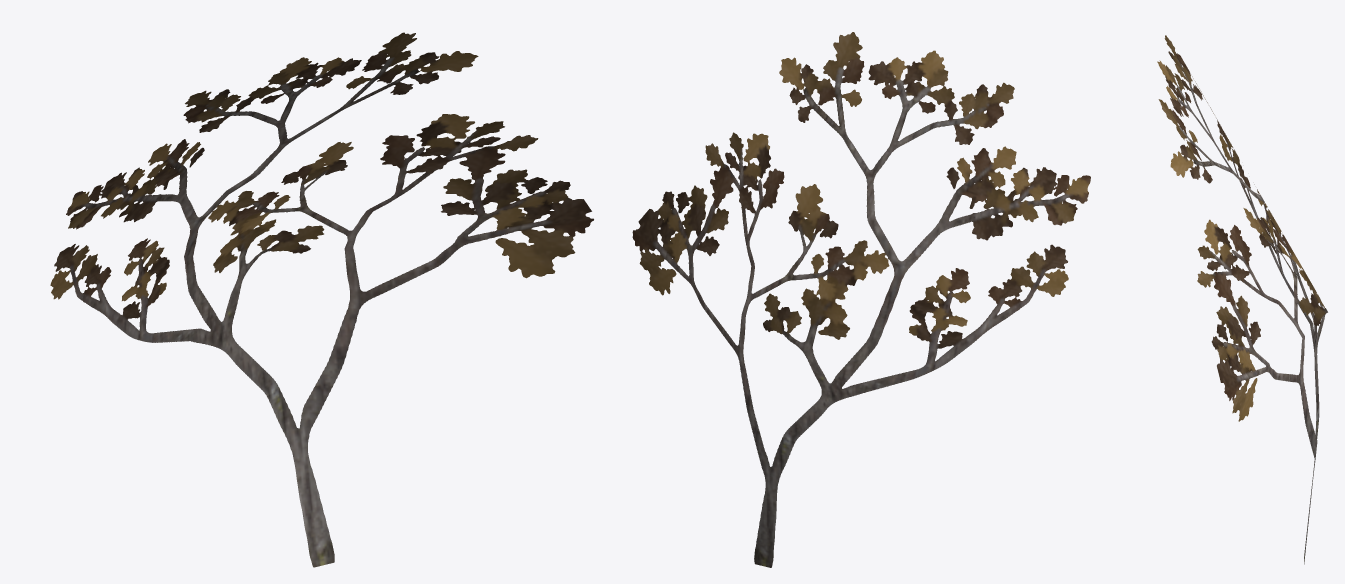
The model's file is rama_arbol_1.fbx.
The picture shows the model from 3 angles, left to right: view 1: azimuth 30°, elevation 25°; view 2: azimuth 150°, elevation 25°; view 3: azimuth 270°, elevation 25°; orthographic projection. The views are drawn at different scales.
Parts seen in each view (by area): view 1: rama_arbol_1; view 2: rama_arbol_1; view 3: rama_arbol_1.
Boxes of the visible parts, left/top/right/bottom form: rama_arbol_1: left=50, top=32, right=593, bottom=567; rama_arbol_1: left=632, top=32, right=1090, bottom=567; rama_arbol_1: left=1157, top=35, right=1327, bottom=564.
Size of the model in its own units: 231 by 224 by 77.39.
